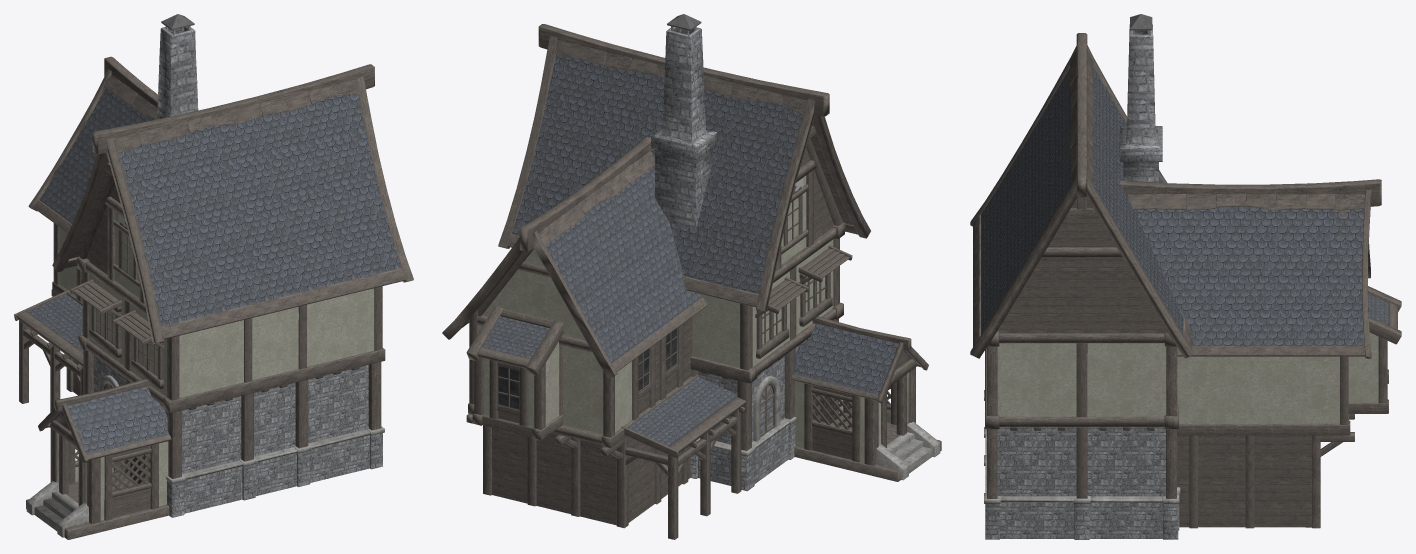
File: house1.glb
3 renders of one model, left to right at view 1: azimuth 30°, elevation 25°; view 2: azimuth 150°, elevation 25°; view 3: azimuth 270°, elevation 25°, orthographic. The views are drawn at different scales.
Parts seen in each view (by area): view 1: pasted__Cube.219_blinn1_0, Cube.016_blinn1_0; view 2: pasted__Cube.219_blinn1_0, Cube.016_blinn1_0; view 3: pasted__Cube.219_blinn1_0, Cube.016_blinn1_0.
Boxes of the visible parts, <box> form: pasted__Cube.219_blinn1_0: <box>14,26,413,539</box>; Cube.016_blinn1_0: <box>16,14,405,537</box>; pasted__Cube.219_blinn1_0: <box>442,24,941,539</box>; Cube.016_blinn1_0: <box>462,14,940,528</box>; pasted__Cube.219_blinn1_0: <box>970,24,1401,539</box>; Cube.016_blinn1_0: <box>973,14,1401,539</box>.
Bounding box in the file's own units: 10.69 × 12.61 × 10.77.
1 material, 1 textured.
